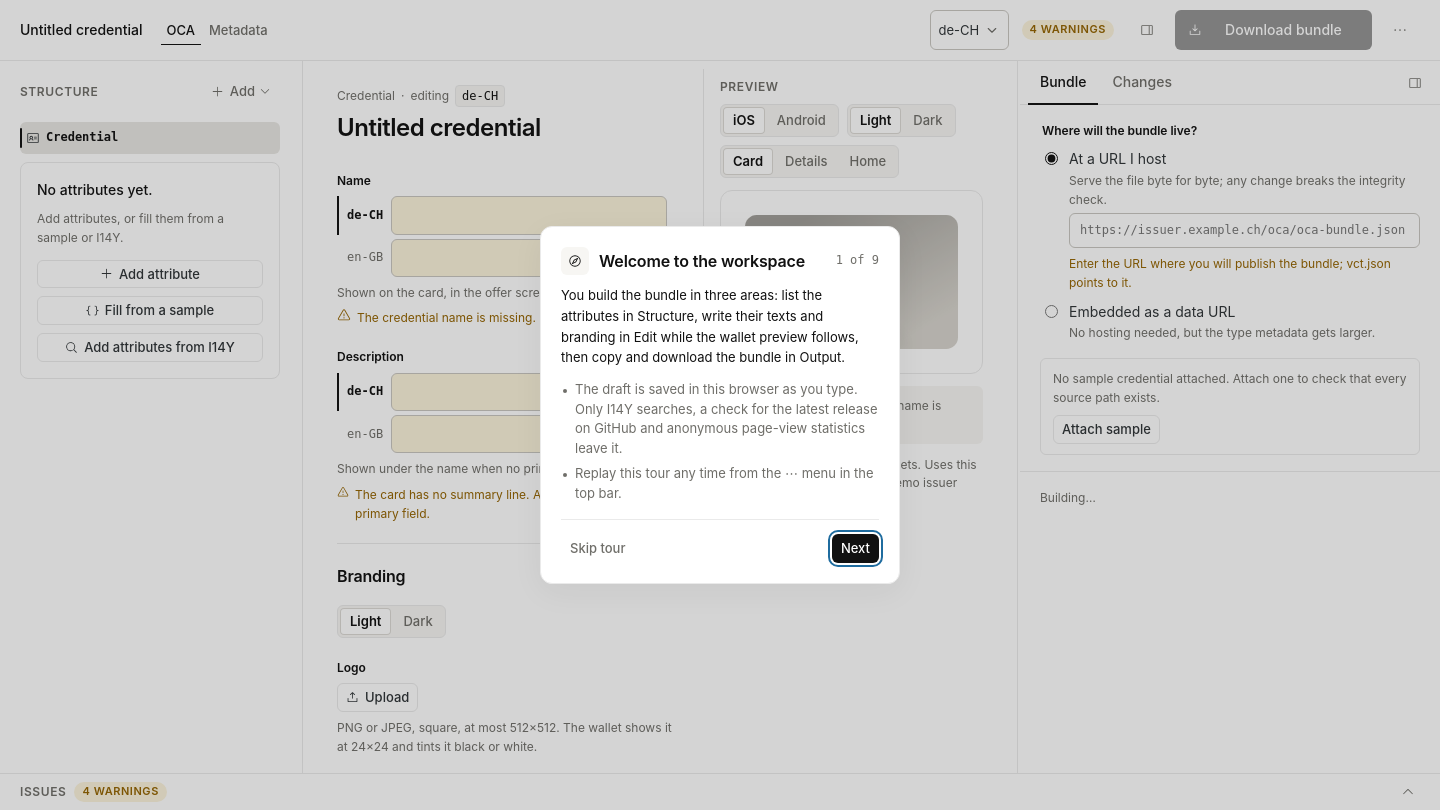
Tour › lights up the form and the wallet preview beside it for the Edit step
Step 1. Click the button "Next" → (855,549), box [832, 534, 879, 563]
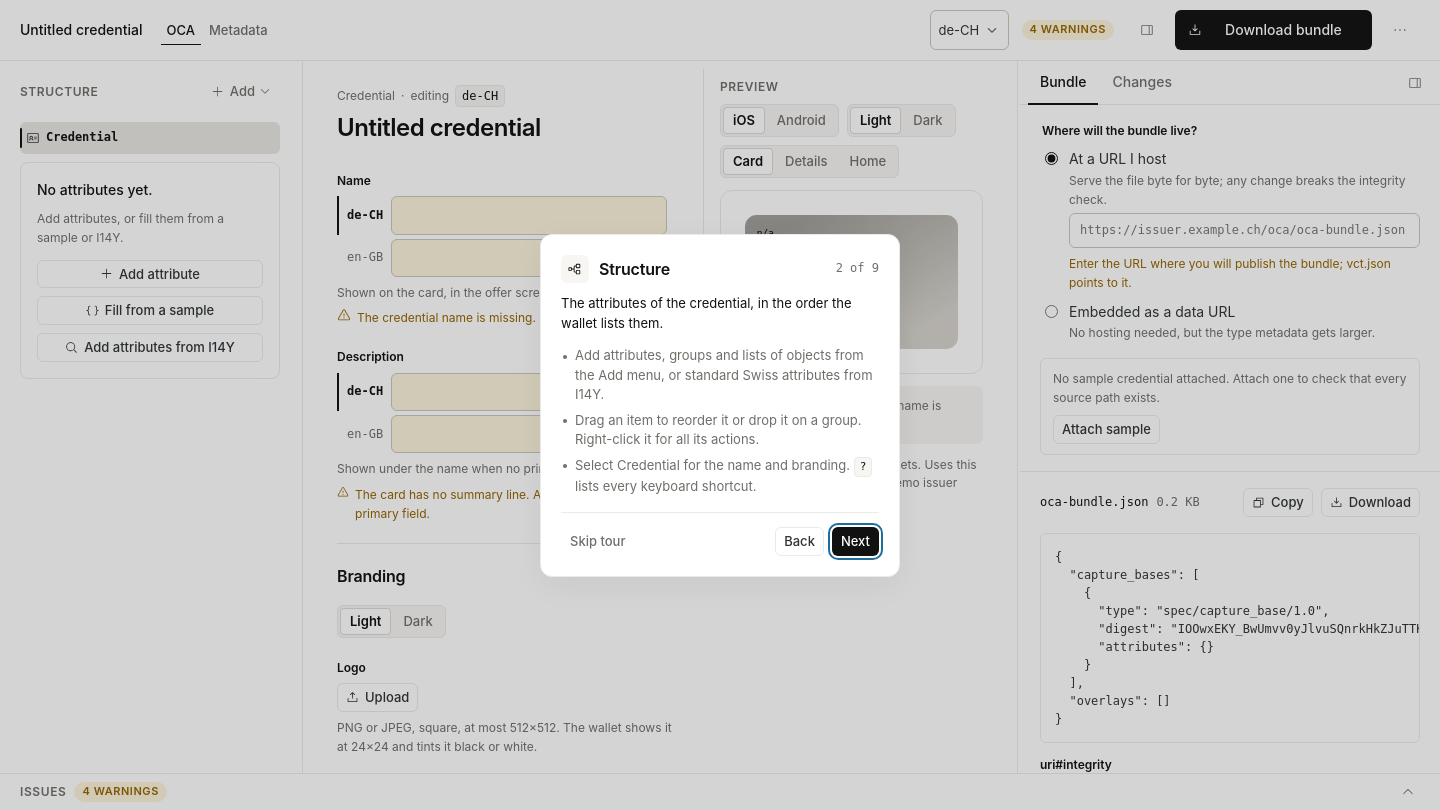
Step 2. Click the button "Next" → (855,542), box [832, 527, 879, 556]
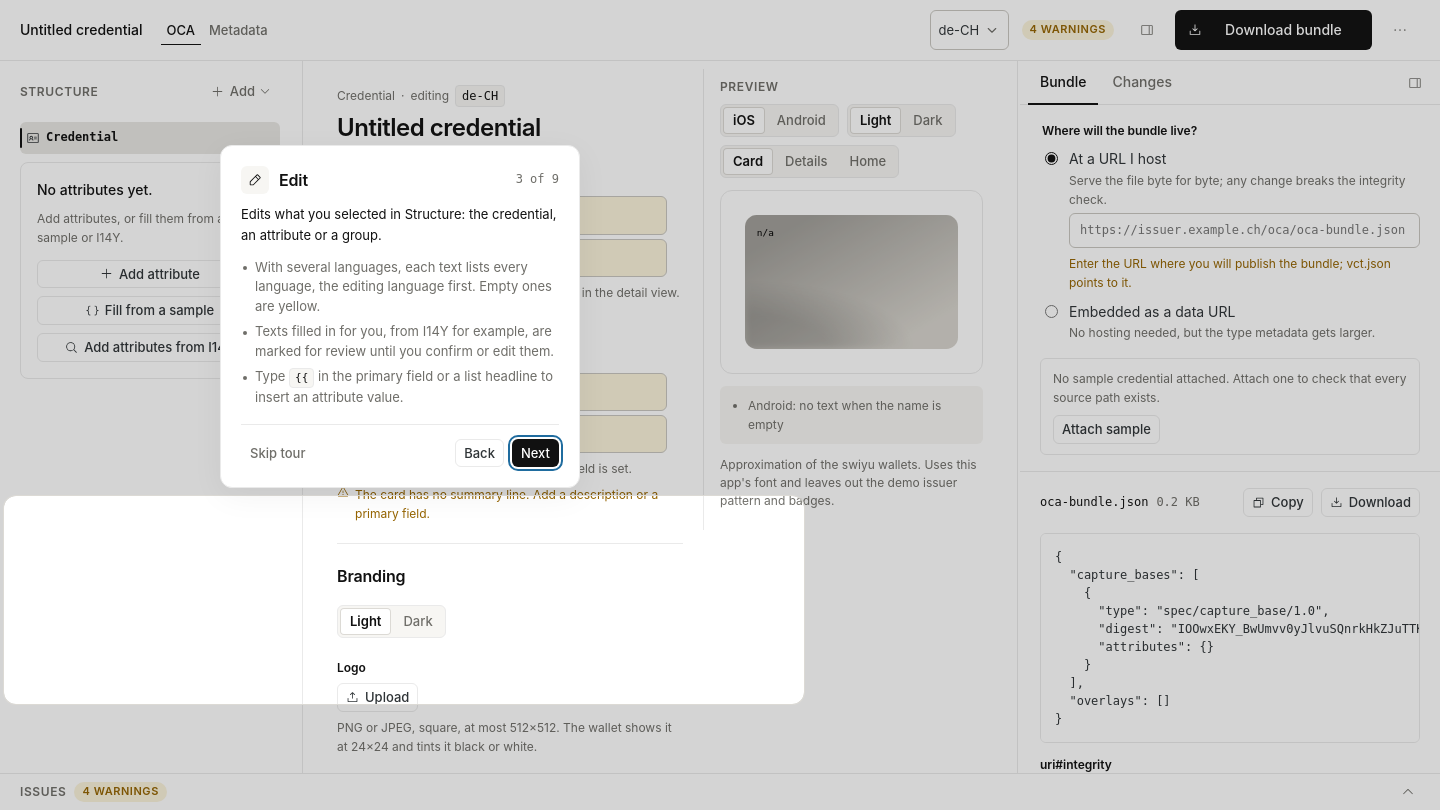
Expected: the field labelled "Name" is shown, [391, 196, 667, 235]
Result: the element with class "tour__spotlight" is shown at [4, 496, 804, 704]
